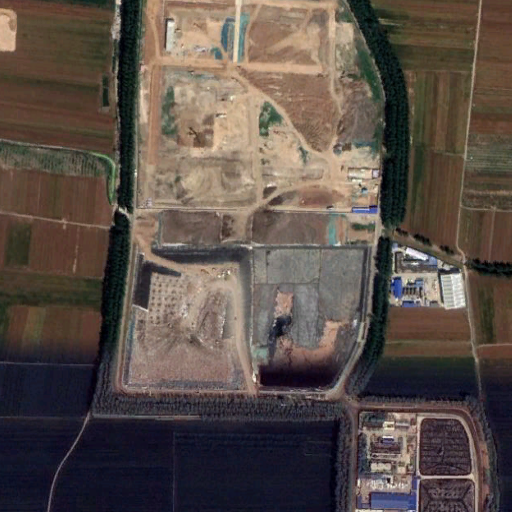lf: (120, 247, 362, 395)
